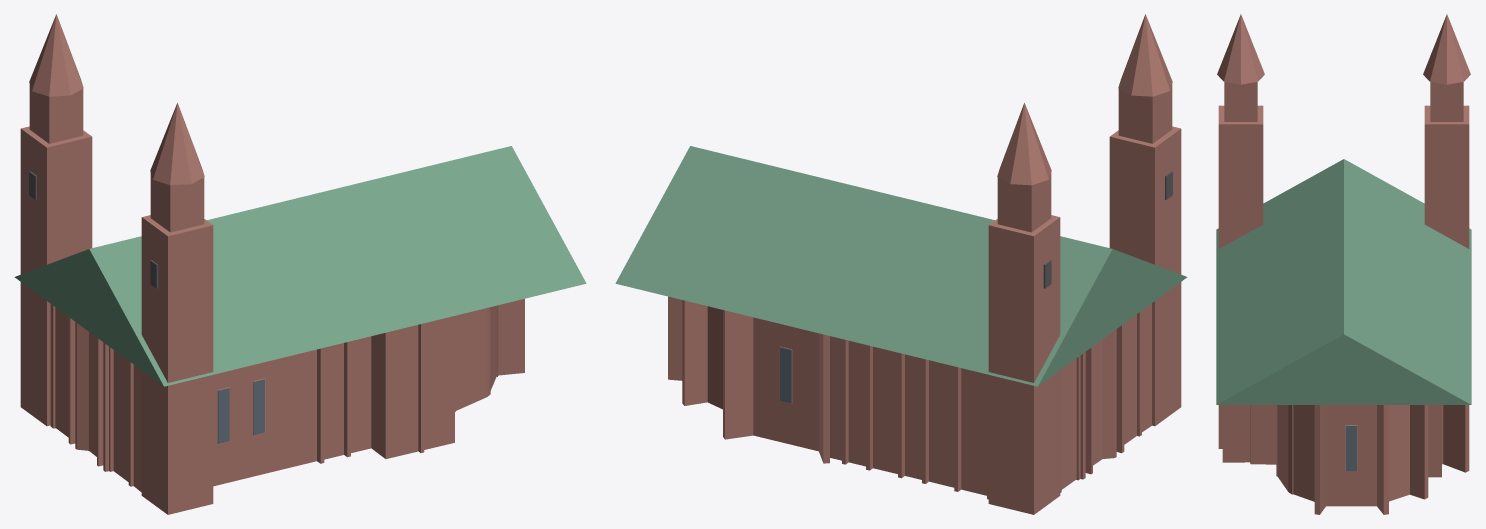
The model's file is landmark-basel-muenster.955a0d7b42.glb.
3 renders of one model, left to right at view 1: azimuth 30°, elevation 25°; view 2: azimuth 150°, elevation 25°; view 3: azimuth 270°, elevation 25°, orthographic. The views are drawn at different scales.
Parts seen in each view (by area): view 1: building; view 2: building; view 3: building.
Part boxes in pixels (x1,y1,x2,y2): building: [14, 14, 586, 514]; building: [615, 14, 1187, 514]; building: [1216, 14, 1471, 514].
Size of the model in its own units: 74.57 by 67 by 45.81.
